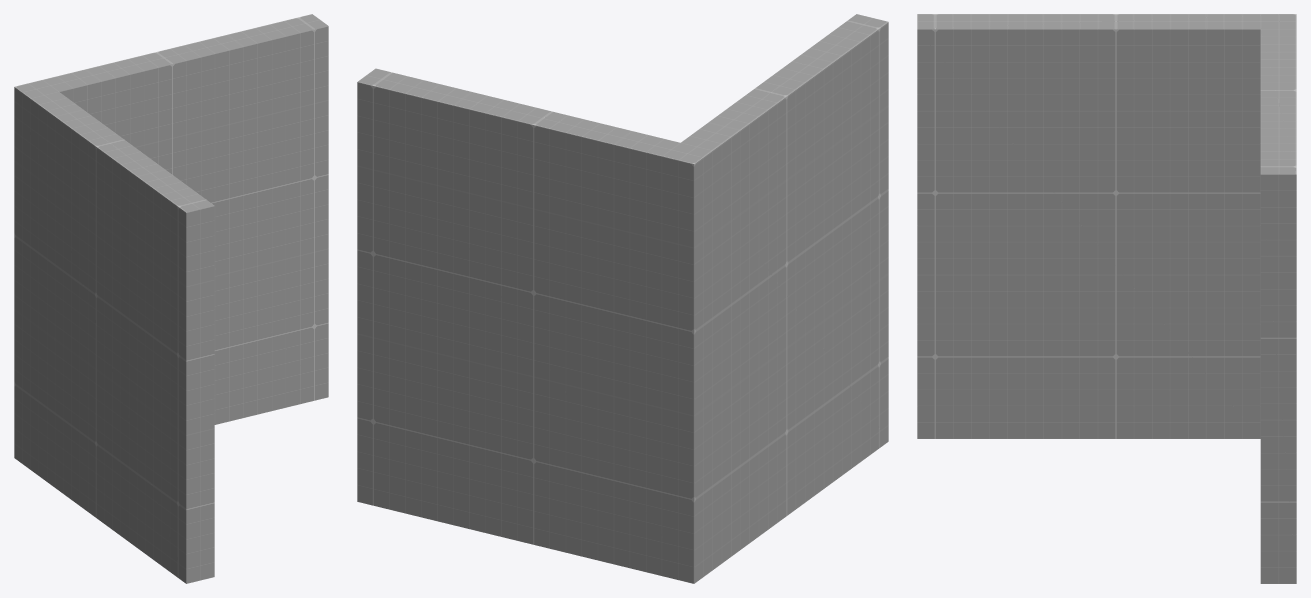
The model's file is Corner_2x2.001.fbx.
3 views of the same model, side by side, from view 1: azimuth 30°, elevation 25°; view 2: azimuth 150°, elevation 25°; view 3: azimuth 270°, elevation 25° (orthographic). The views are drawn at different scales.
Visible parts, largest first — view 1: Corner_2x2.001; view 2: Corner_2x2.001; view 3: Corner_2x2.001.
Part boxes in pixels (x1,y1,x2,y2): Corner_2x2.001: (14, 14, 328, 583); Corner_2x2.001: (357, 14, 888, 583); Corner_2x2.001: (917, 14, 1296, 583).
Bounding box in the file's own units: 210 × 250 × 210.
